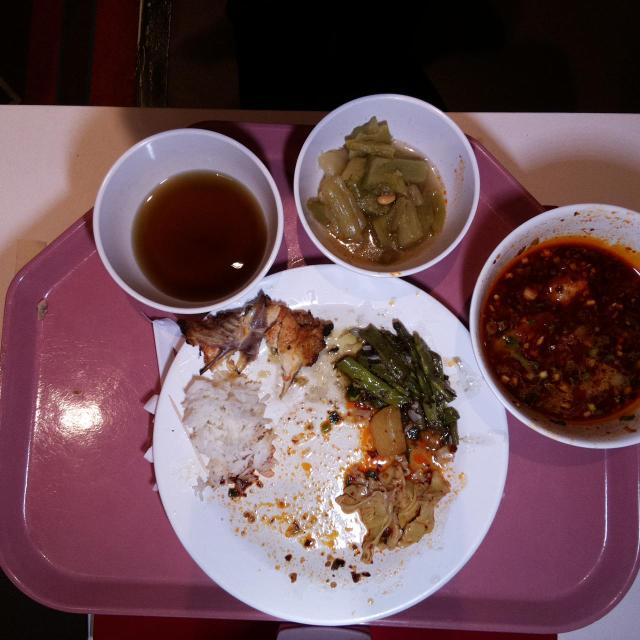Bone: (175, 296, 268, 374)
Meat: (266, 304, 326, 384)
Rice: (182, 372, 276, 483)
Vegetable: (322, 132, 430, 244), (337, 326, 434, 406)
